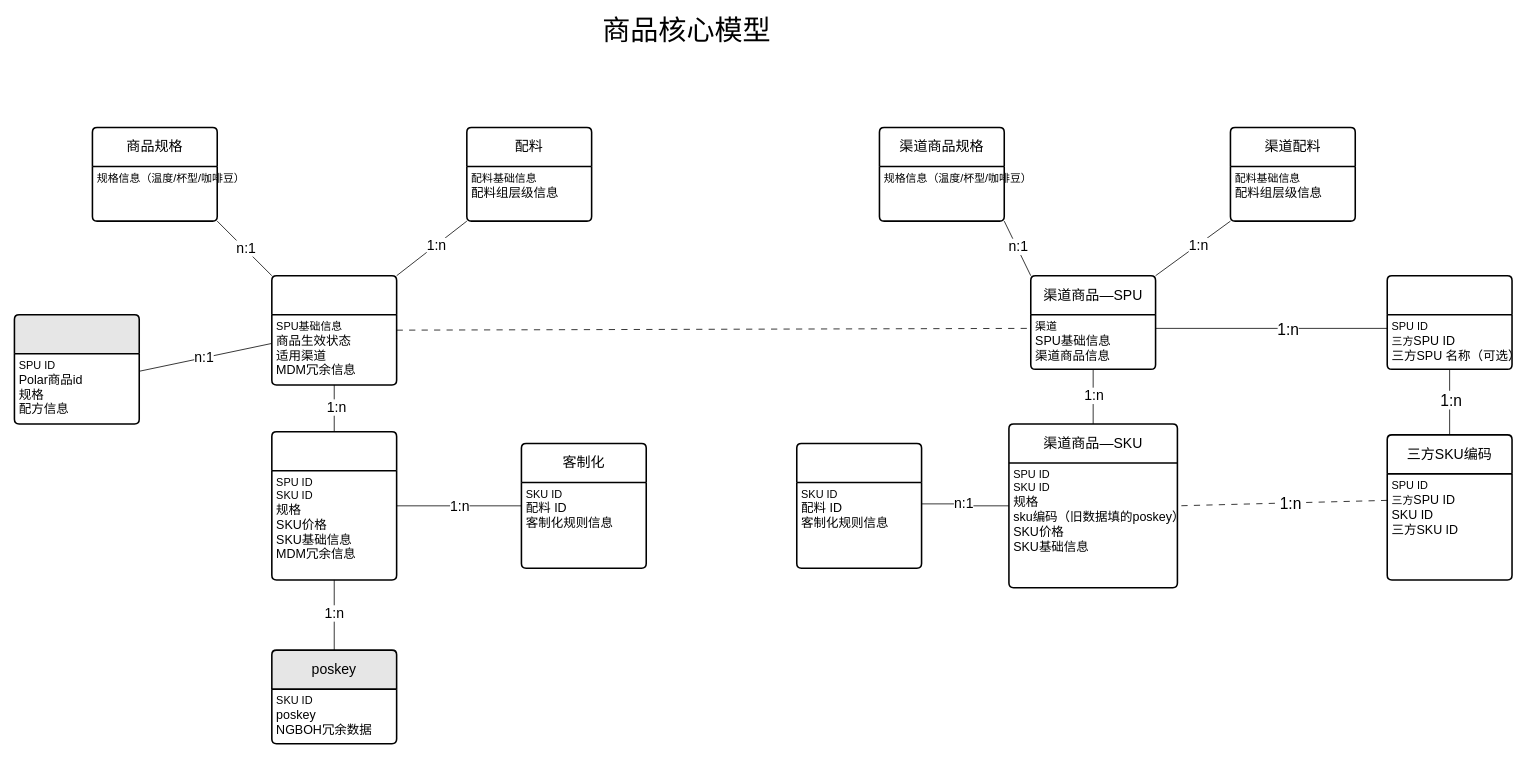
Image size: 1533x758. Some labels were removed from this diagram. Here are the shapes that lost their labels. From the top down, the box of each, then its label:
(271, 275, 397, 385): 基础商品—SPU
(1386, 275, 1512, 370): 三方SPU编码
(13, 314, 140, 424): 配方（Bom）
(271, 431, 397, 580): 基础商品—SKU
(796, 442, 922, 569): 渠道客制化
